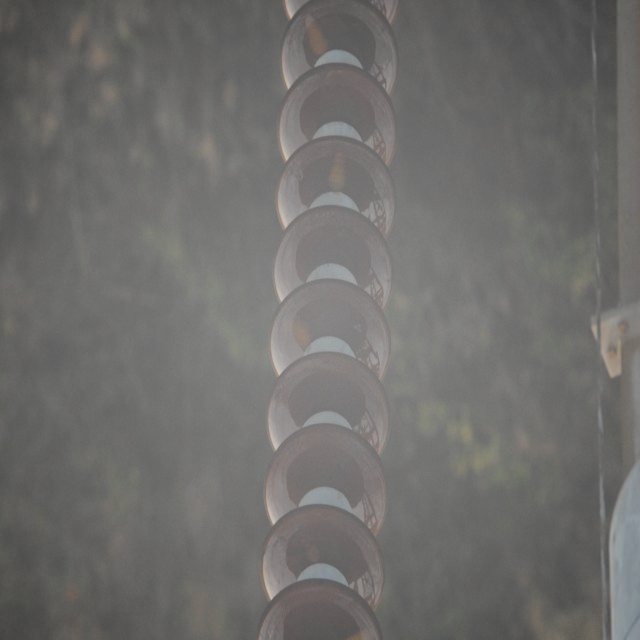insulator: (255, 1, 404, 640)
